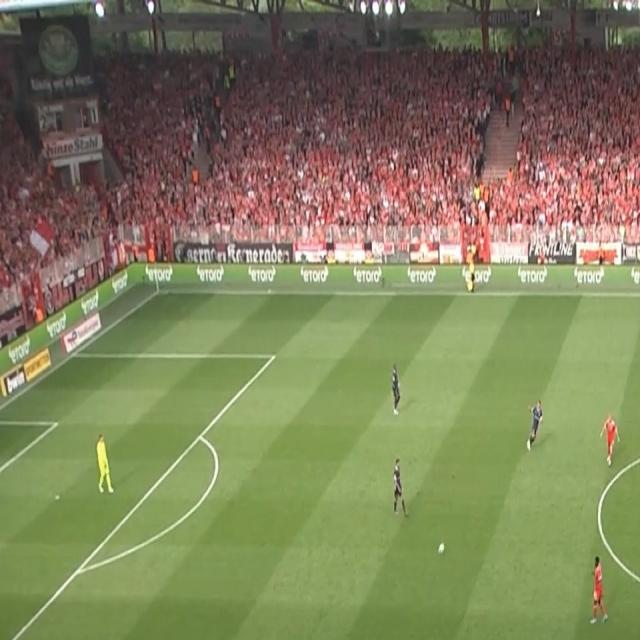ball: (437, 540, 445, 556)
